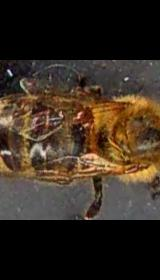varroa_mite: (66, 103, 102, 128)
